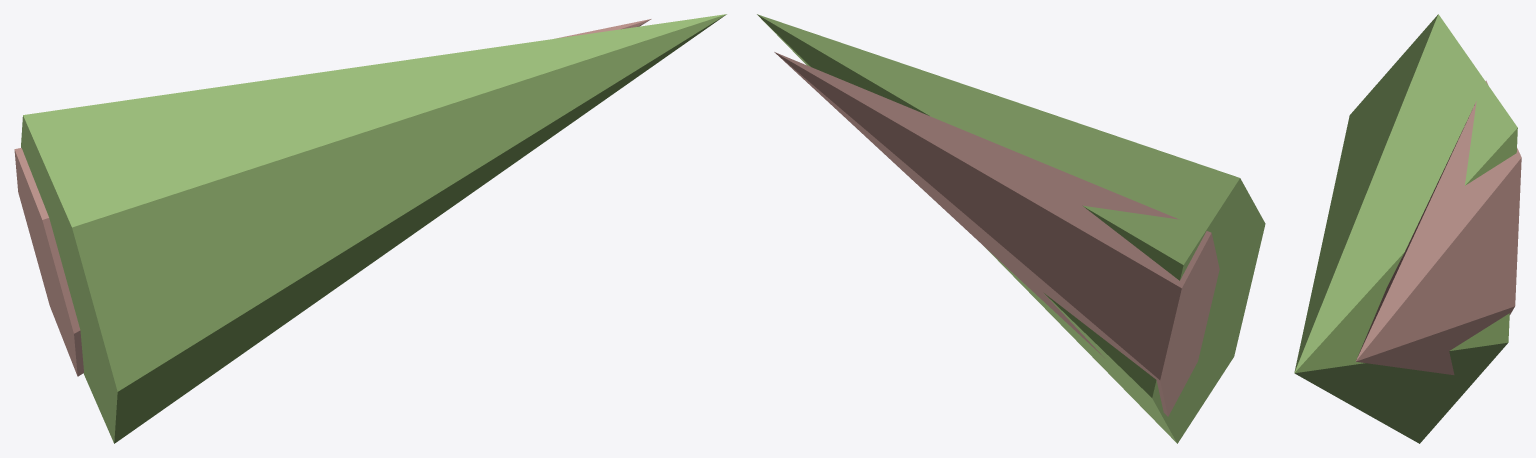
File: ear_r.glb
3 views of the same model, side by side, from view 1: azimuth 30°, elevation 25°; view 2: azimuth 150°, elevation 25°; view 3: azimuth 270°, elevation 25° (orthographic). The views are drawn at different scales.
Parts seen in each view (by area): view 1: ear_r2; view 2: ear_r2; view 3: ear_r2.
Boxes of the visible parts, bbox=[...] form: ear_r2: bbox=[14, 14, 726, 443]; ear_r2: bbox=[757, 14, 1265, 443]; ear_r2: bbox=[1294, 14, 1521, 443].
Bounding box in the file's own units: 0.4919 × 0.2518 × 0.135.
